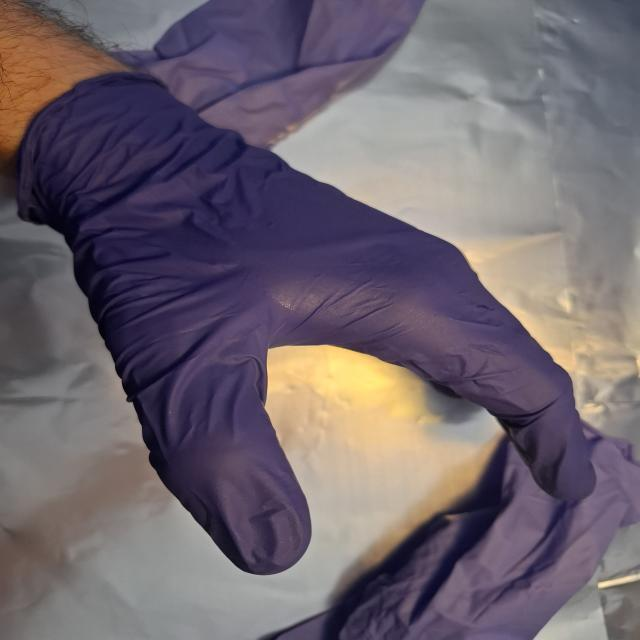glove_on: (19, 66, 602, 578)
